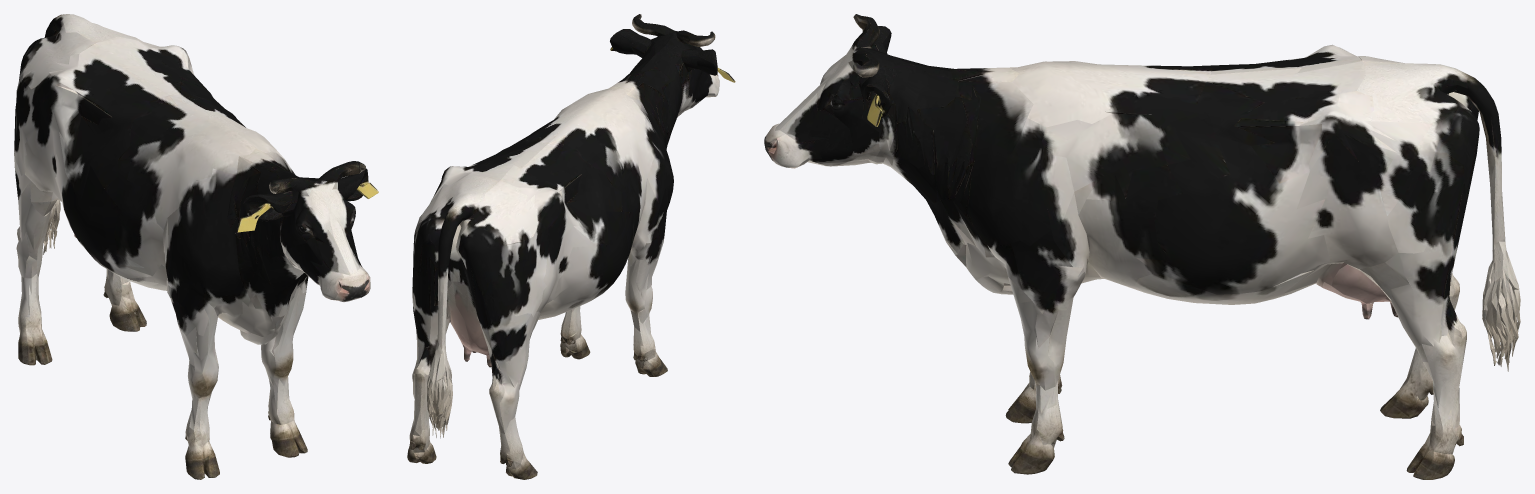
The model's file is cow.glb.
The picture shows the model from 3 angles, left to right: view 1: azimuth 30°, elevation 25°; view 2: azimuth 150°, elevation 25°; view 3: azimuth 270°, elevation 25°; orthographic projection. The views are drawn at different scales.
Parts seen in each view (by area): view 1: output_unwrapped; view 2: output_unwrapped; view 3: output_unwrapped.
Part boxes in pixels (x1=…): output_unwrapped: x1=14, y1=14, x2=378, y2=479; output_unwrapped: x1=407, y1=14, x2=735, y2=479; output_unwrapped: x1=764, y1=14, x2=1520, y2=479.
Size of the model in its own units: 0.5824 by 1.12 by 1.9.
Materials: 1 (1 with a texture image).
